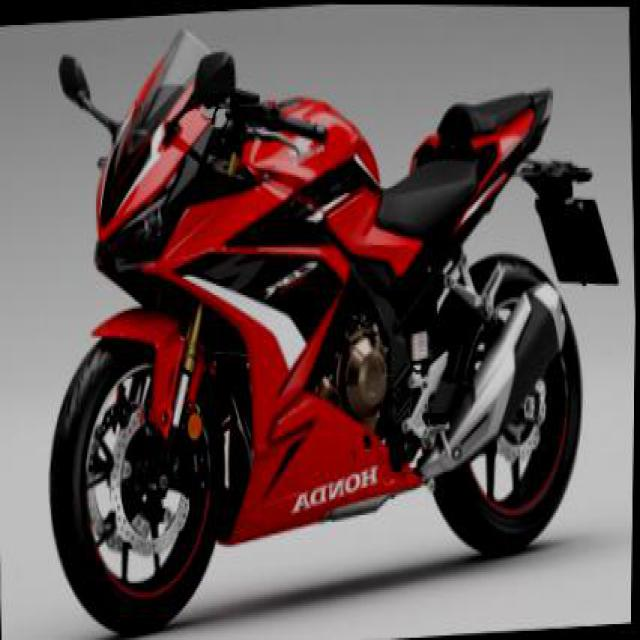CBR500R: (33, 0, 598, 638)
